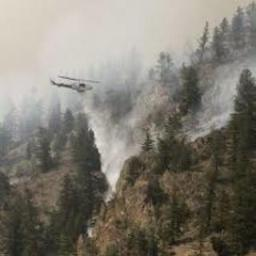Low smoke: (0, 0, 255, 200)
